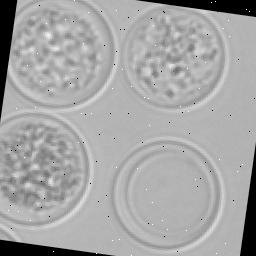picoshell: (109, 136, 225, 254), (7, 0, 119, 112), (123, 6, 230, 113), (0, 110, 93, 230), (0, 223, 21, 242)
